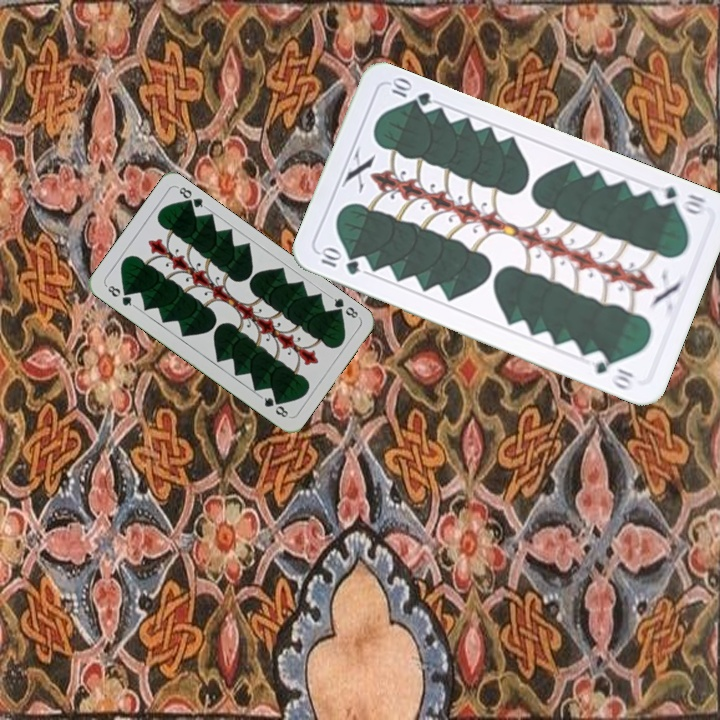G10: (649, 182, 709, 218), (315, 245, 362, 278)
G8: (102, 280, 138, 309), (326, 292, 361, 321)
